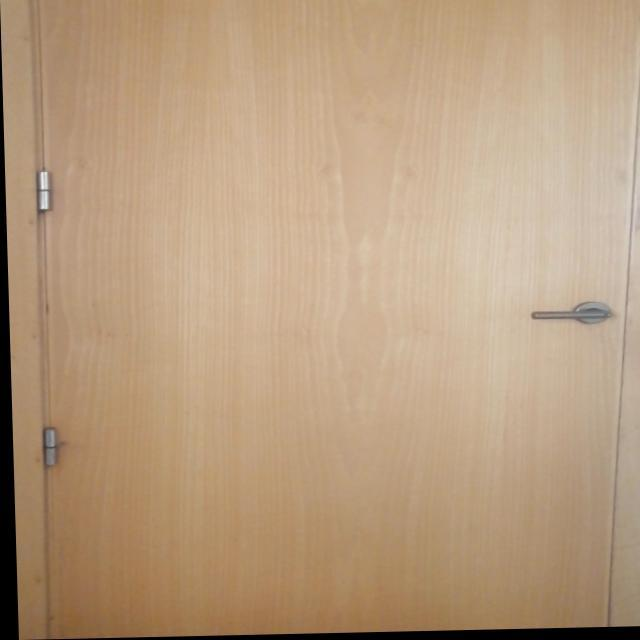door_handle: (521, 310, 614, 325)
